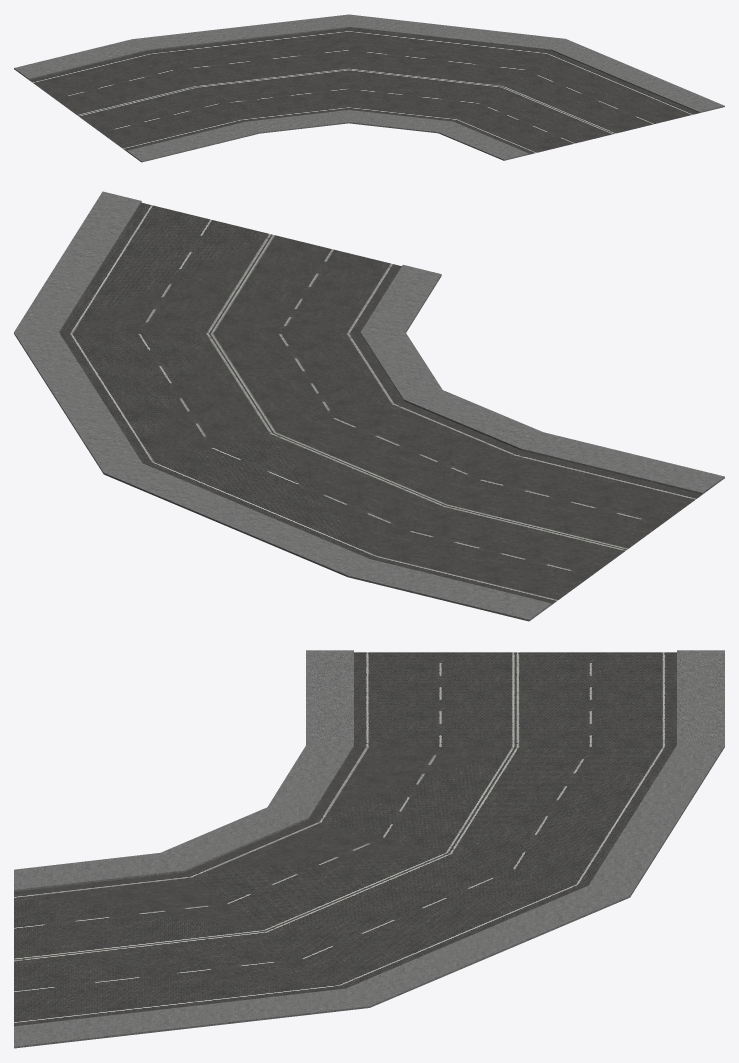
File: Highway_Curve.obj
The picture shows the model from 3 angles, top to bottom: view 1: azimuth 30°, elevation 25°; view 2: azimuth 150°, elevation 25°; view 3: azimuth 270°, elevation 25°; orthographic projection. The views are drawn at different scales.
Visible parts, largest first — view 1: Highway_Curve; view 2: Highway_Curve; view 3: Highway_Curve.
Part boxes in pixels (x1,y1,x2,y2): Highway_Curve: [14, 14, 724, 162]; Highway_Curve: [14, 191, 724, 621]; Highway_Curve: [14, 650, 724, 1048].
Size of the model in its own units: 54.36 by 0.1182 by 41.23.
